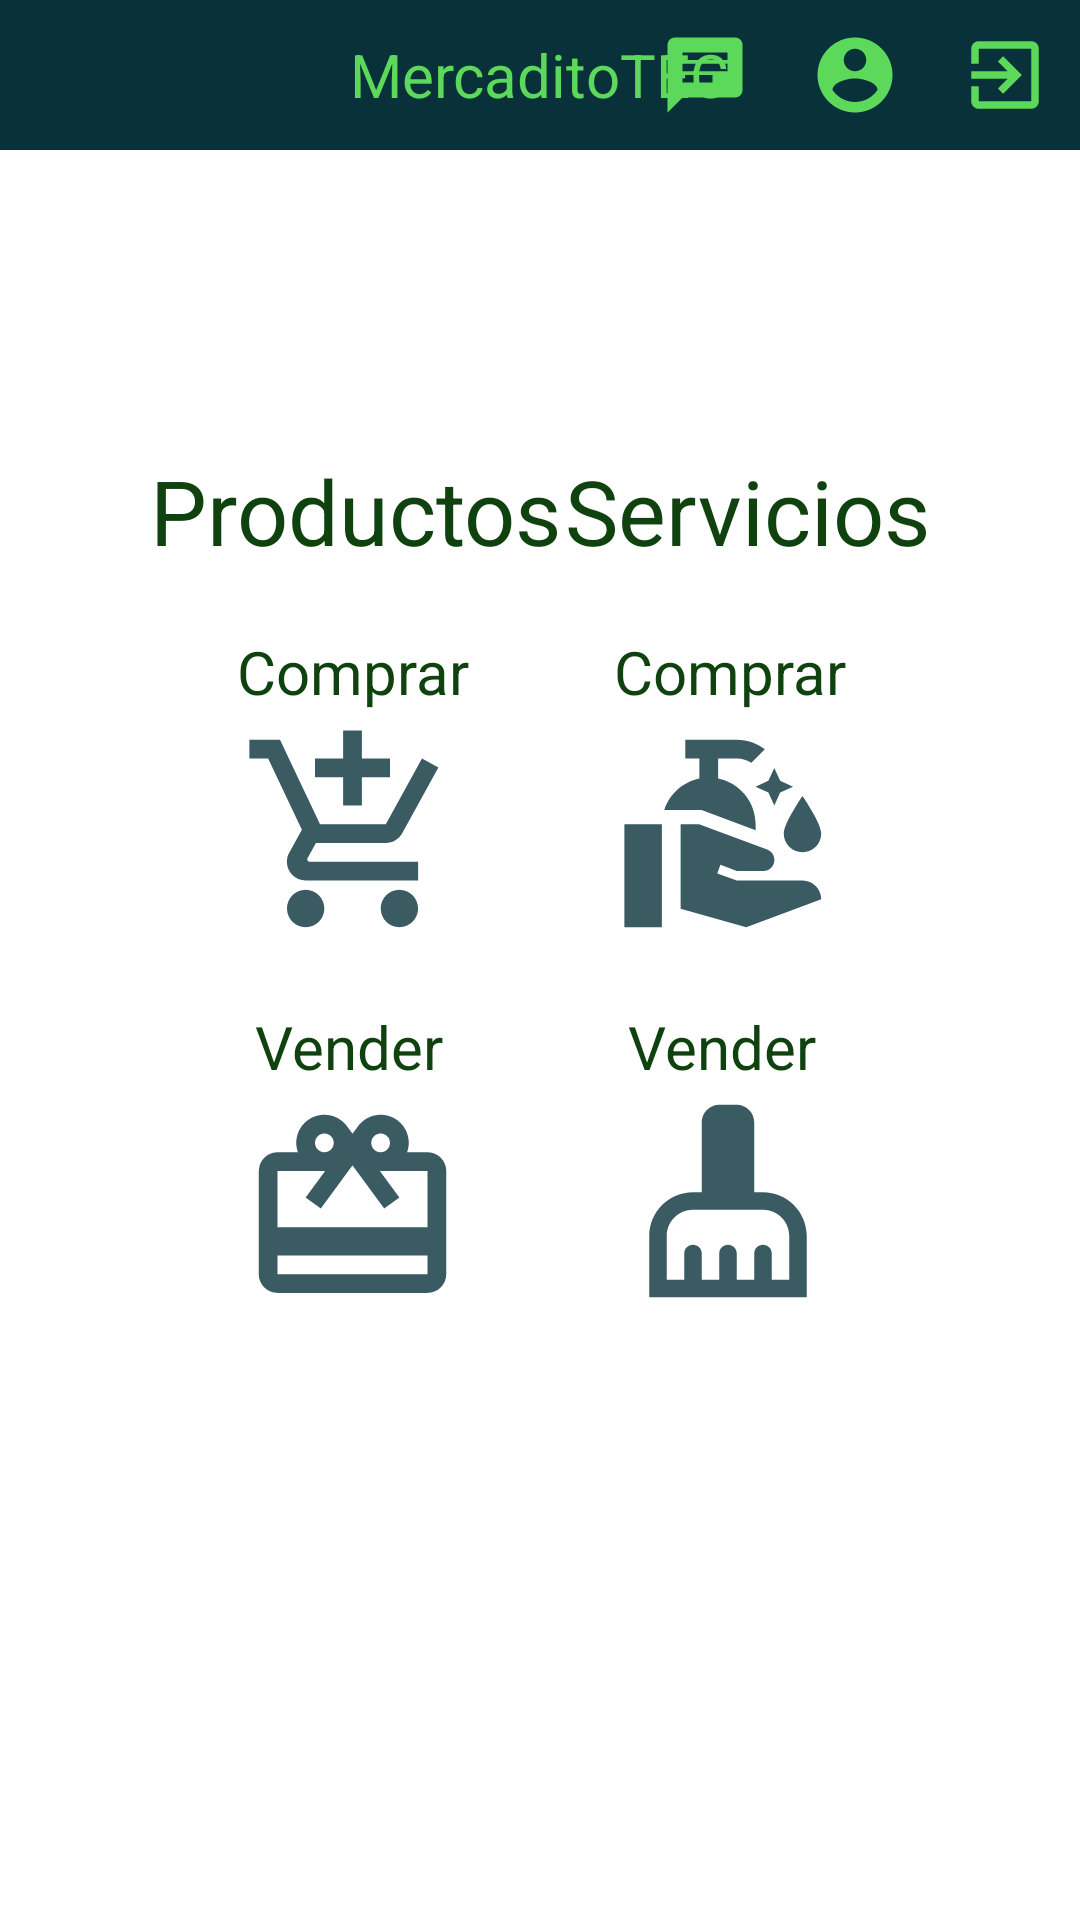

Screen size 1080x1920. Icon name, then its center in pixels as point (x, y):
account circle: point (855, 75)
chat: point (702, 75)
exit to app: point (1005, 75)
